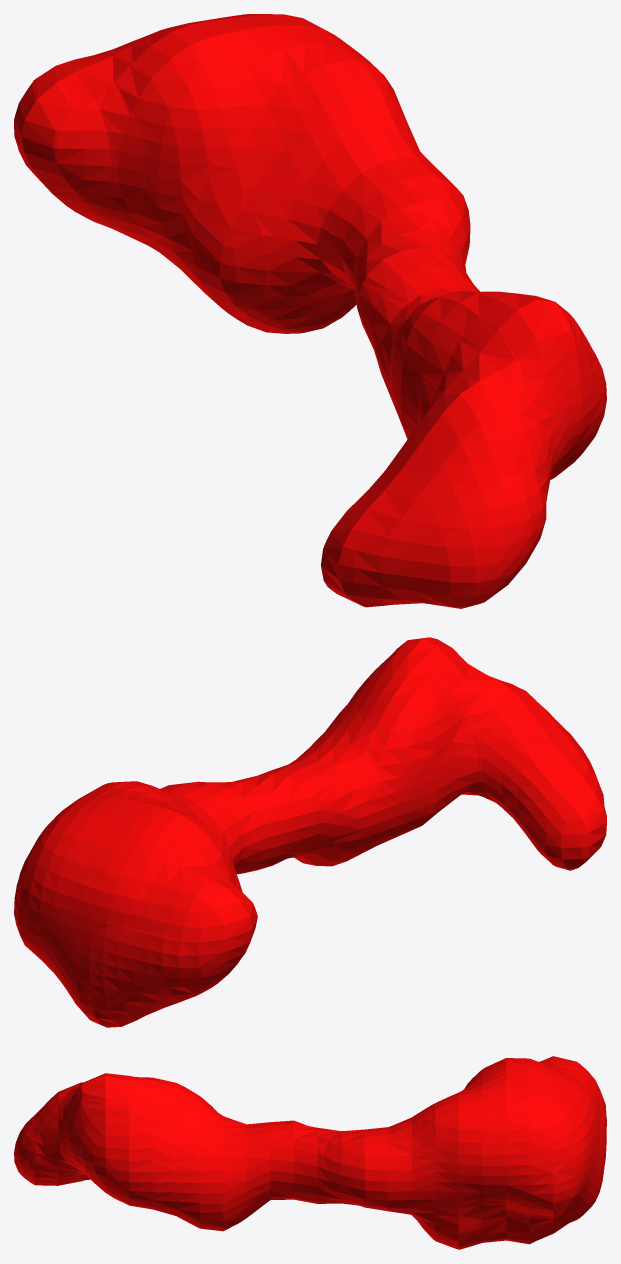
Rendered from rpmF_coarse.dae.
3 renders of one model, top to bottom at view 1: azimuth 30°, elevation 25°; view 2: azimuth 150°, elevation 25°; view 3: azimuth 270°, elevation 25°, orthographic. The views are drawn at different scales.
Parts seen in each view (by area): view 1: rpmF; view 2: rpmF; view 3: rpmF.
Part boxes in pixels (<box>): rpmF: <box>14,14,606,608</box>; rpmF: <box>14,637,606,1027</box>; rpmF: <box>14,1056,606,1249</box>.
Bounding box in the file's own units: 31.27 × 21.88 × 69.37.
